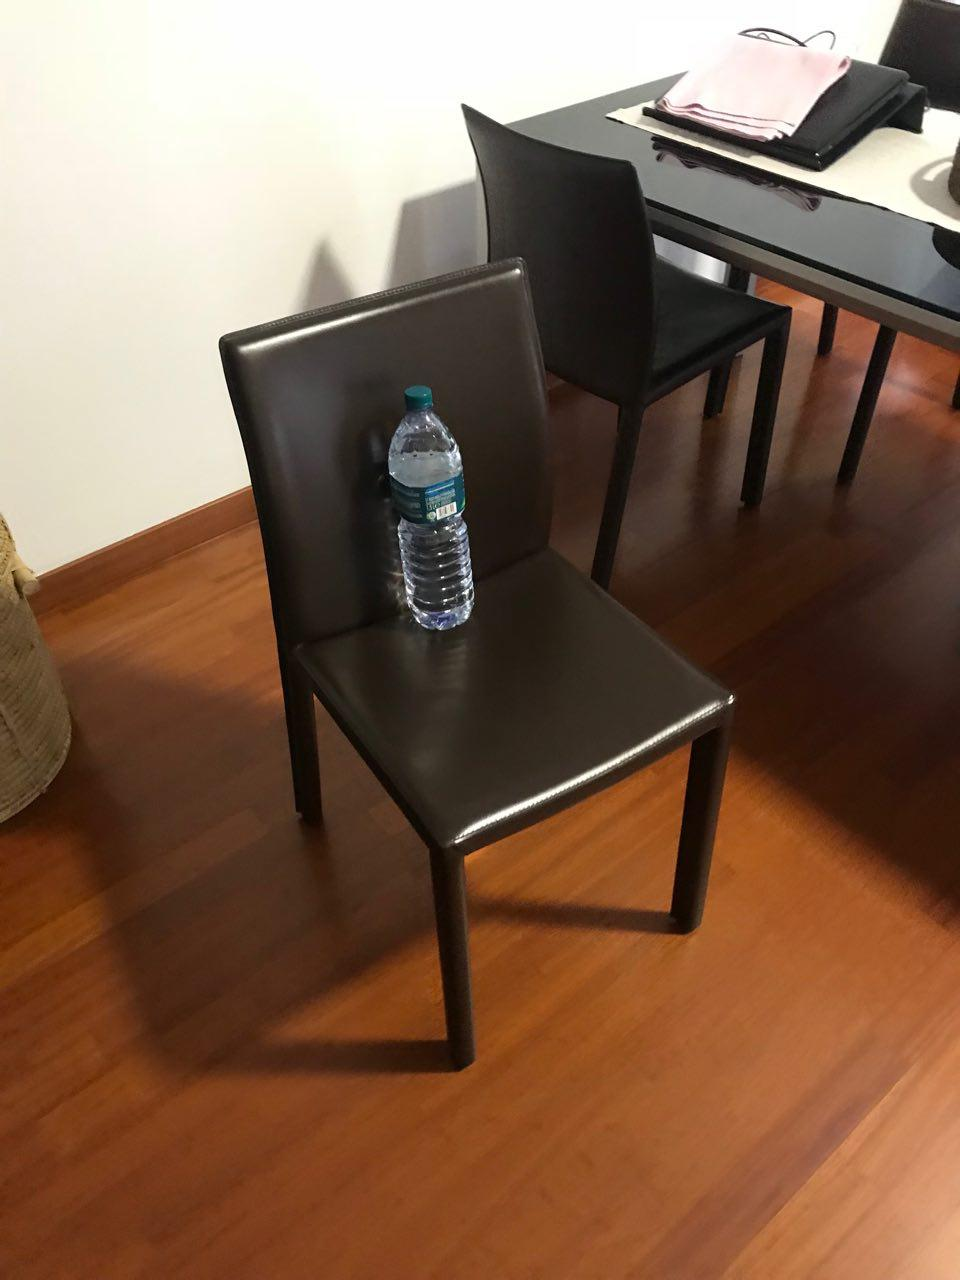san_bernardo: (387, 384, 475, 630)
